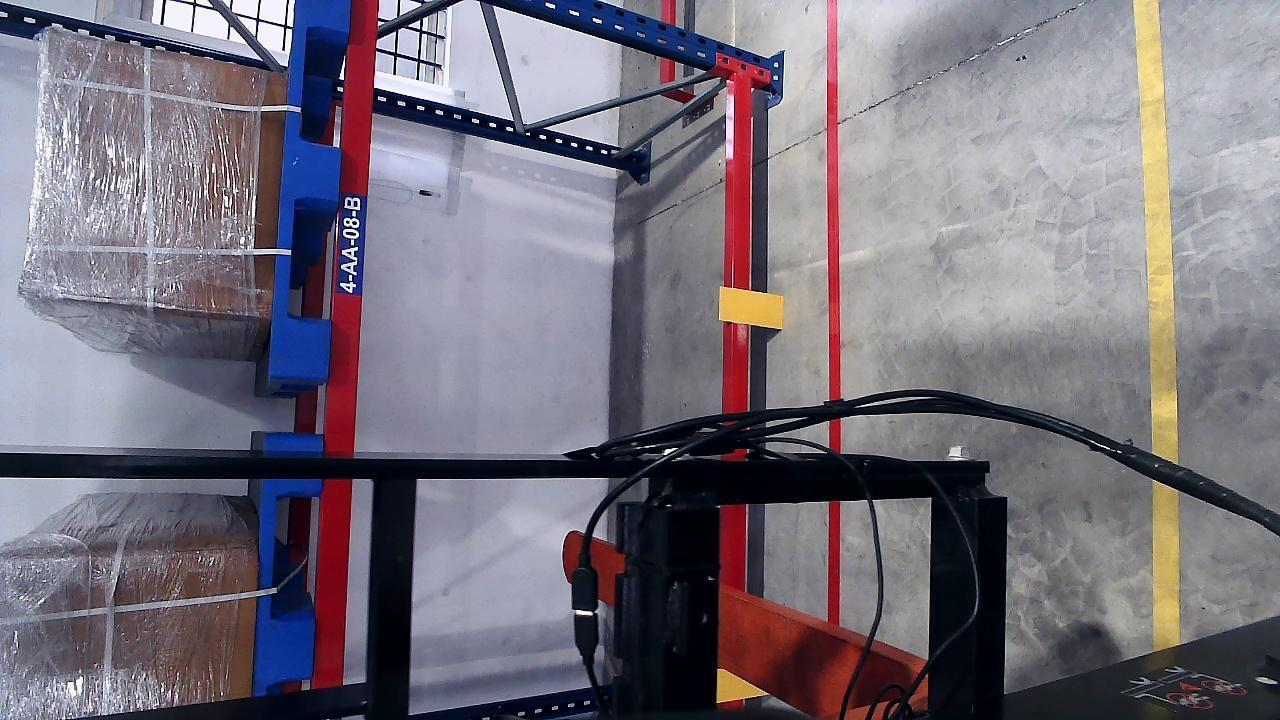red_line: (811, 0, 843, 616)
yellow_line: (1140, 0, 1182, 642)
